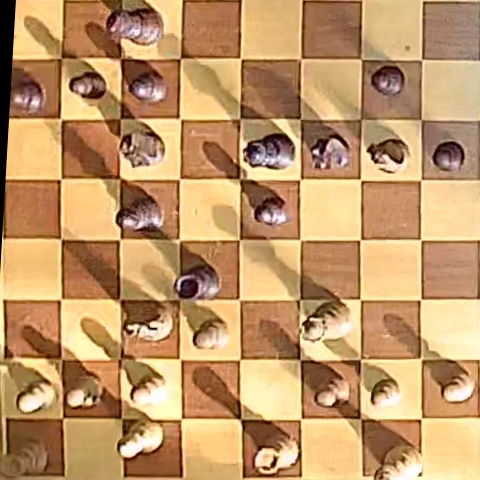black-bishop: (115, 197, 164, 232)
black-king: (107, 8, 163, 46)
black-knight: (120, 131, 165, 167), (310, 134, 350, 170)
black-pawn: (11, 75, 46, 114), (129, 71, 168, 103), (371, 65, 405, 96), (432, 141, 465, 172), (70, 72, 107, 99), (254, 199, 288, 227)
black-queen: (244, 134, 294, 169)
black-rook: (175, 265, 220, 300)
white-bishop: (119, 421, 163, 458)
white-king: (376, 444, 423, 479)
white-knight: (124, 302, 175, 342), (367, 139, 410, 173)
white-pawn: (66, 373, 104, 410), (16, 380, 56, 415), (130, 374, 168, 407), (315, 376, 350, 408), (442, 371, 476, 403), (193, 320, 228, 349), (371, 379, 402, 409)
white-queen: (303, 300, 352, 341)
white-rook: (1, 438, 47, 477), (256, 438, 299, 475)
